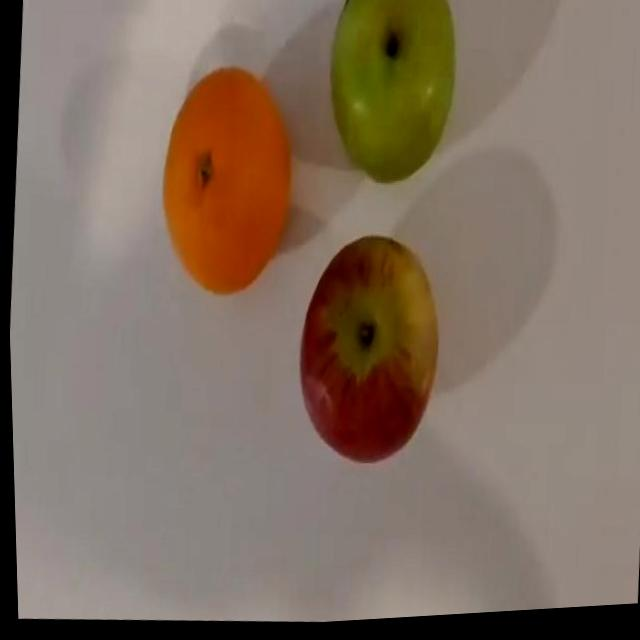Apple: (285, 230, 446, 475), (318, 0, 463, 194)
Orange: (149, 60, 300, 304)
